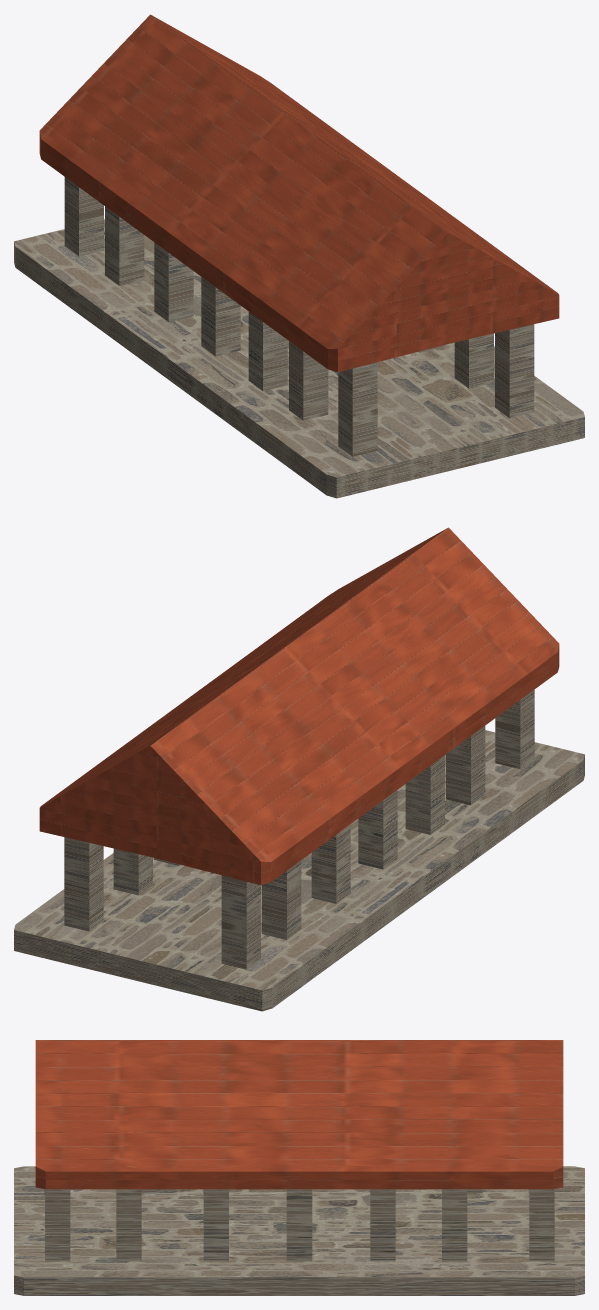
Rendered from rural-house-big_4.fbx.
3 views of the same model, one above another, from view 1: azimuth 30°, elevation 25°; view 2: azimuth 150°, elevation 25°; view 3: azimuth 270°, elevation 25° (orthographic). The views are drawn at different scales.
Visible parts, largest first — view 1: Cube.002; view 2: Cube.002; view 3: Cube.002.
Boxes of the visible parts, box(x1,y1,x2,y2) form: Cube.002: box(14, 14, 584, 498); Cube.002: box(14, 527, 584, 1011); Cube.002: box(14, 1040, 584, 1295).
Size of the model in its own units: 450 by 379 by 979.
